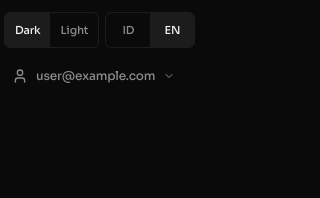
it: Header › opens user menu with Sign Out
Click the button with test id "user-menu-trigger" at (94, 76), box [4,54,183,98]
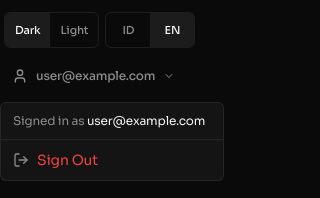
Check: the menu with test id "user-menu" is shown, box [0,102,224,181]
Check: the menu item with test id "sign-out" reads "Sign Out", box [13,151,98,169]
Check: the text "Signed in as user@example.com" is shown, box [13,113,205,128]
